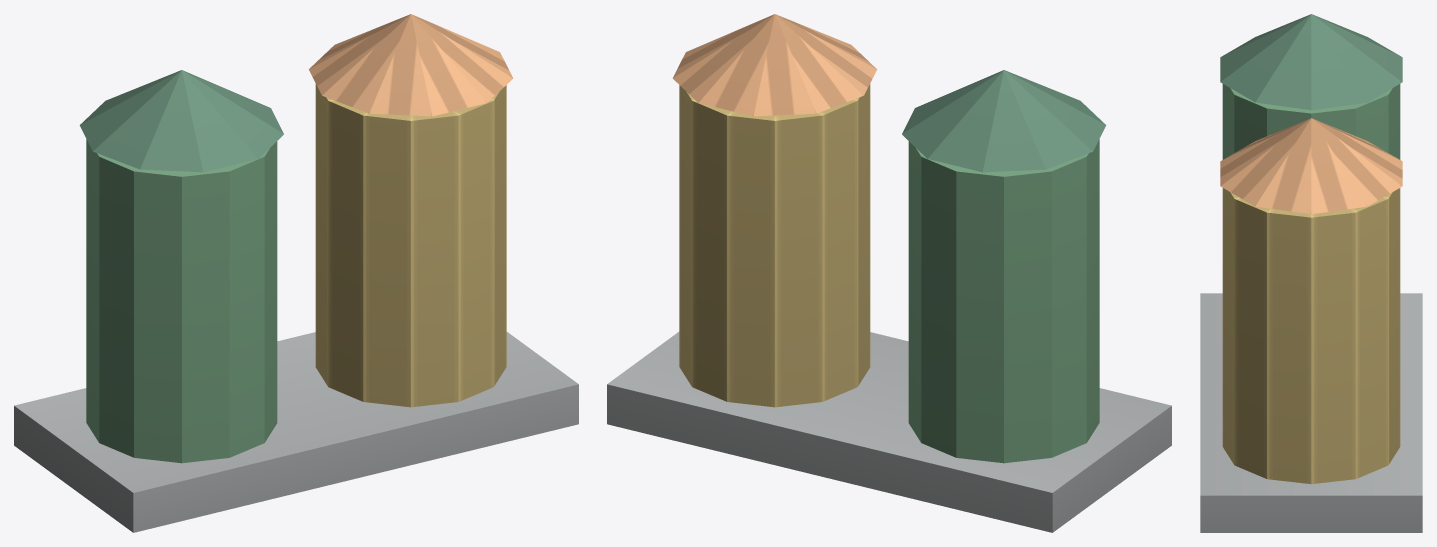
File: trash_bin.glb
The picture shows the model from 3 angles, left to right: view 1: azimuth 30°, elevation 25°; view 2: azimuth 150°, elevation 25°; view 3: azimuth 270°, elevation 25°; orthographic projection. The views are drawn at different scales.
Parts seen in each view (by area): view 1: trash_bin; view 2: trash_bin; view 3: trash_bin.
Part boxes in pixels (bbox=[...]): trash_bin: bbox=[14, 14, 578, 532]; trash_bin: bbox=[607, 14, 1171, 532]; trash_bin: bbox=[1200, 14, 1422, 532].
Bounding box in the file's own units: 1.4 × 1.18 × 0.65.
1 material, 1 textured.
